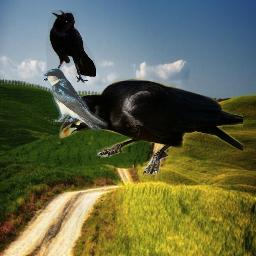Crow: (58, 78, 243, 176), (42, 10, 96, 83)
Swallow: (43, 68, 108, 131)
